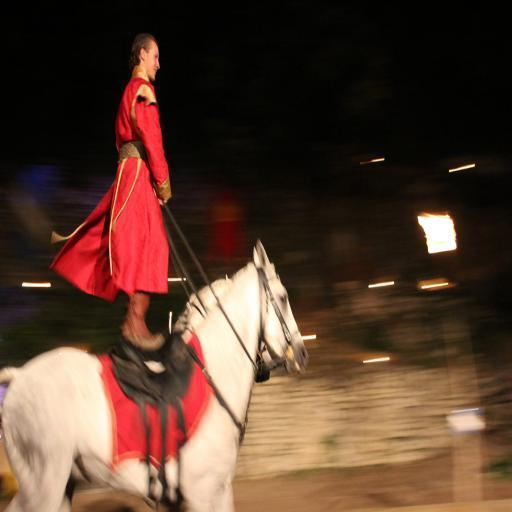horse: (0, 238, 307, 512)
